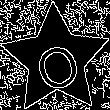O_N: (28, 28, 84, 91)
